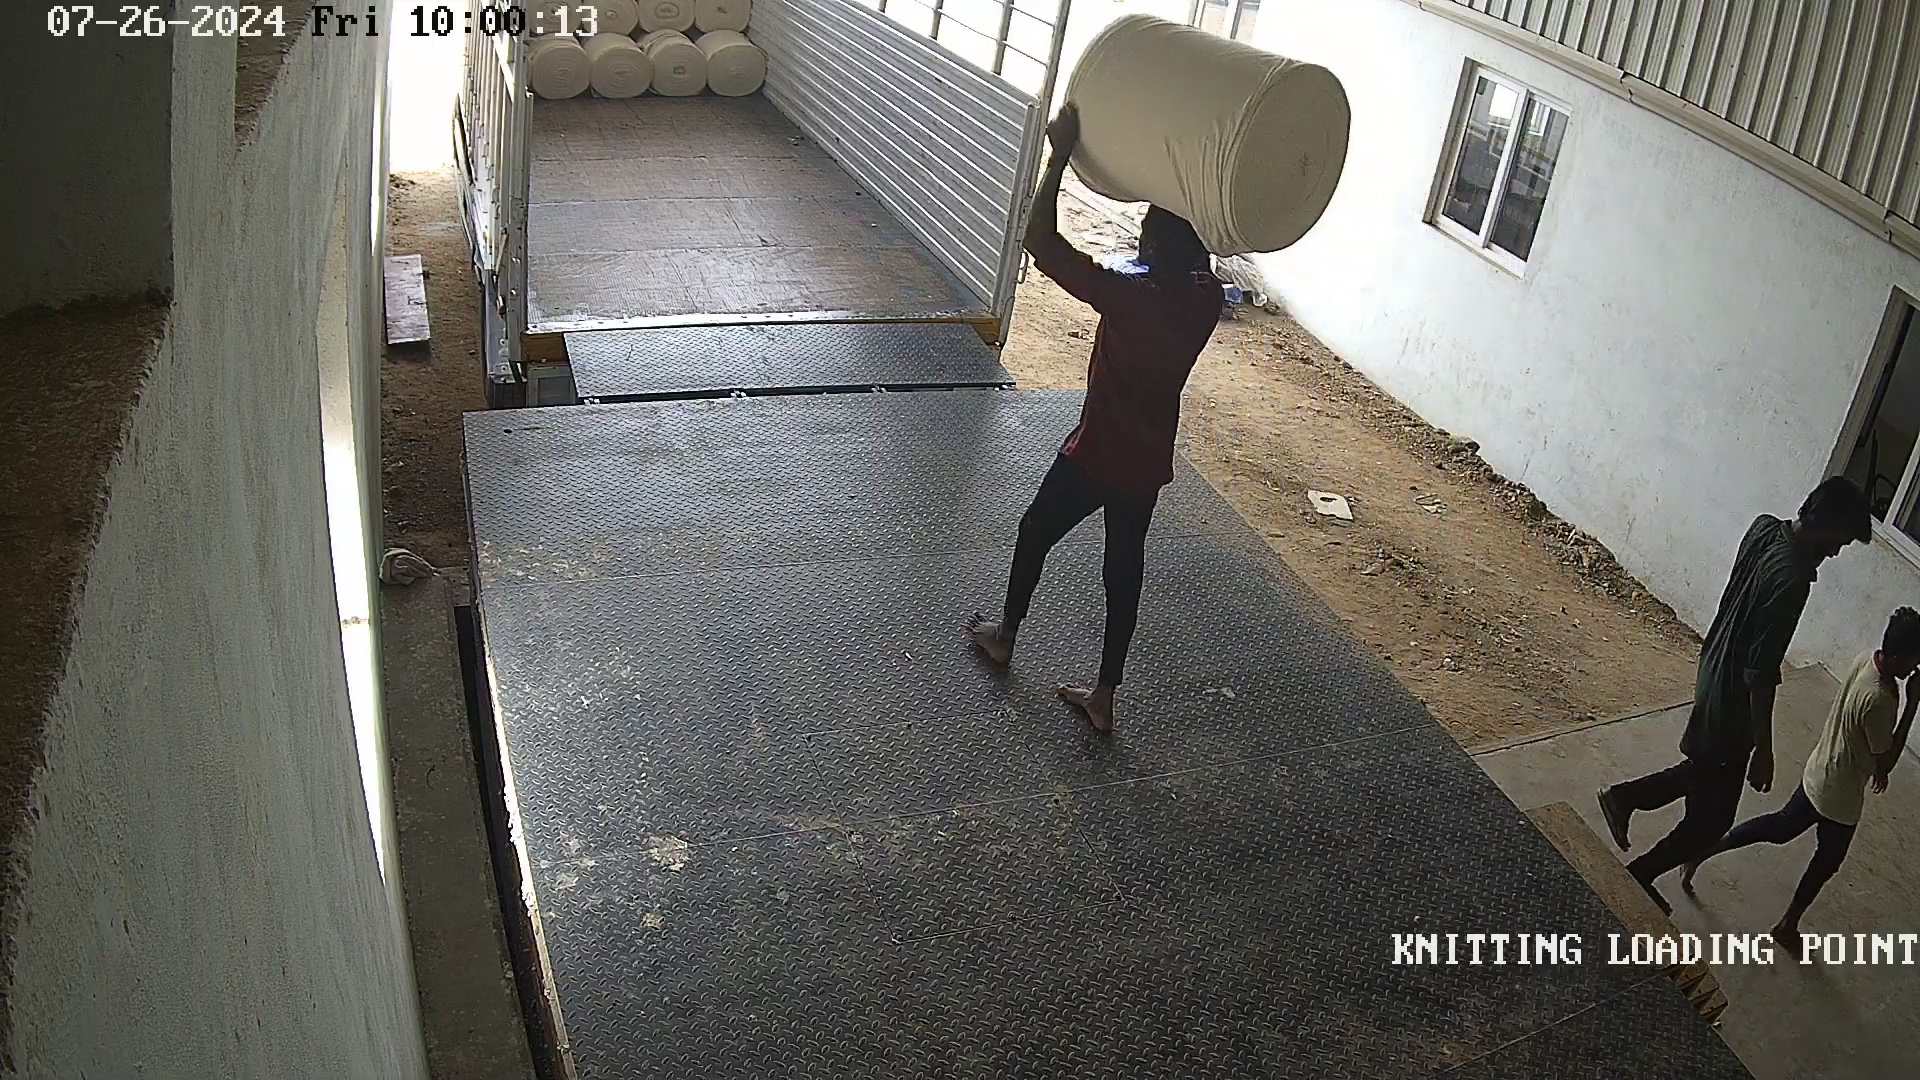bag: (1040, 5, 1366, 261)
